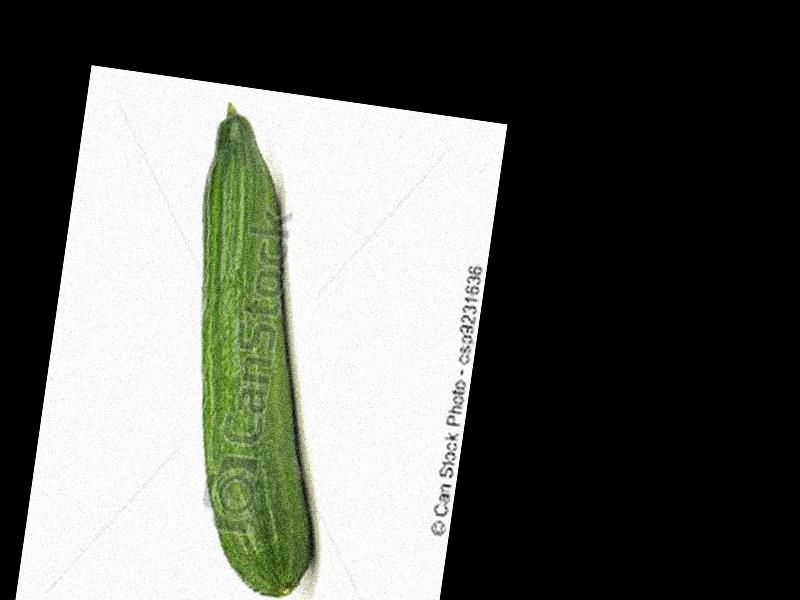Cucumber: (151, 102, 373, 598)
